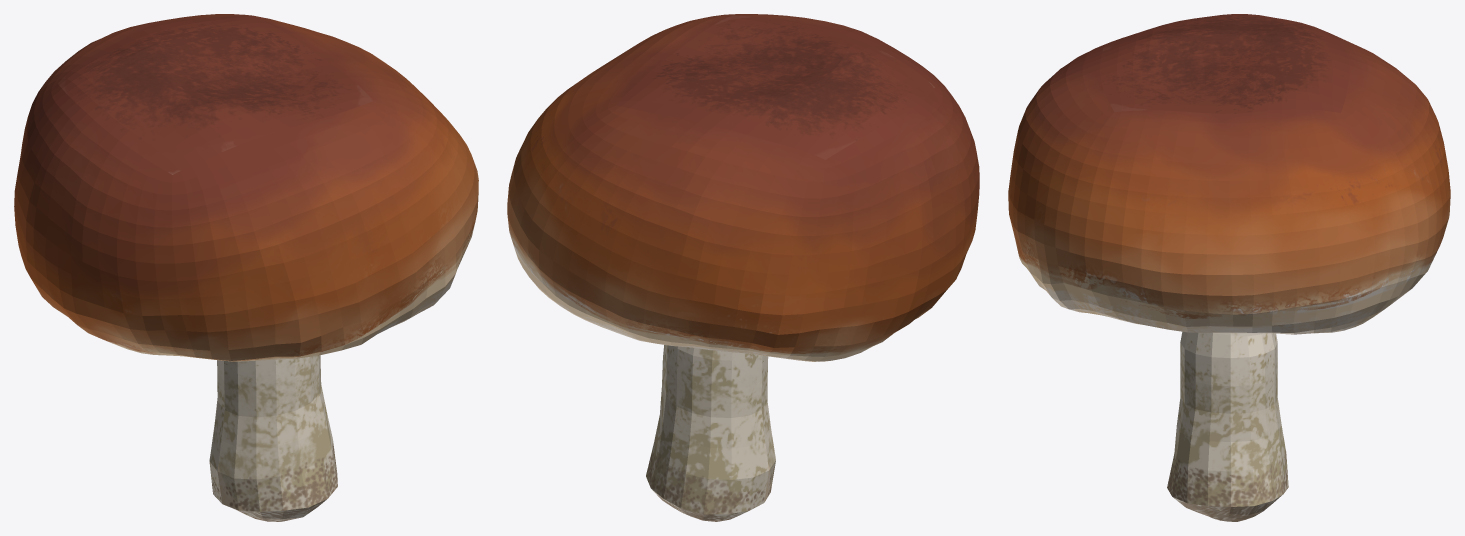
Rendered from king bolete-lower poly.glb.
3 renders of one model, left to right at view 1: azimuth 30°, elevation 25°; view 2: azimuth 150°, elevation 25°; view 3: azimuth 270°, elevation 25°, orthographic. The views are drawn at different scales.
Visible parts, largest first — view 1: king bolete; view 2: king bolete; view 3: king bolete.
Boxes of the visible parts, x1,y1,x2,y2 form: king bolete: (14,14,478,521); king bolete: (507,14,979,521); king bolete: (1008,14,1450,521).
Size of the model in its own units: 0.401 by 0.4364 by 0.4035.
Materials: 1 (1 with a texture image).
